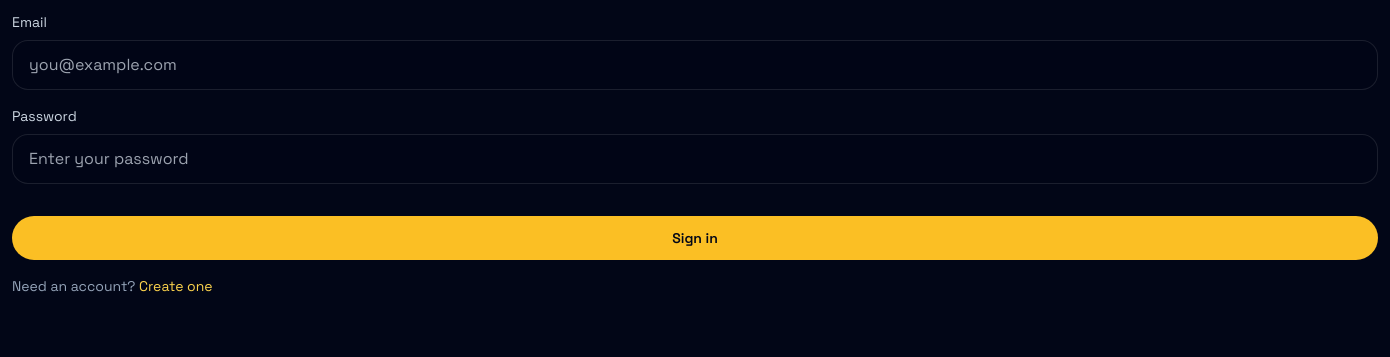
Test: LoginForm › shows validation messages before submission
What coordinates should you click on to do the following:
click the button "Sign in"
I would click on:
 (695, 238)
Its box is [12,216,1378,260].
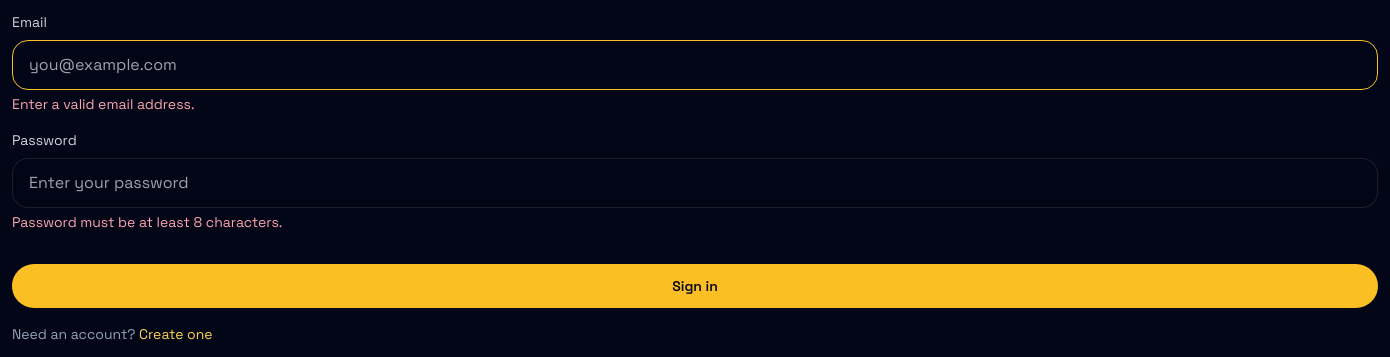
Expected: the text "Enter a valid email address." is shown, [12,95,194,113]
Expected: the text "Password must be at least 8 characters." is shown, [12,213,282,231]
